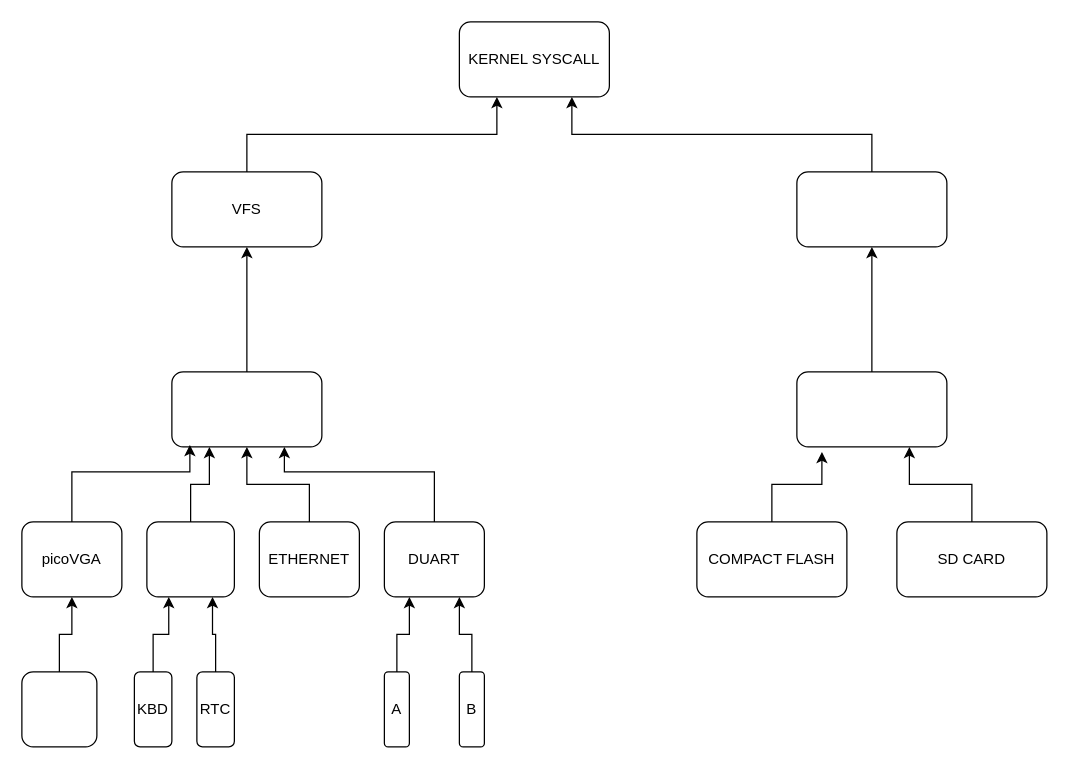
The diagram is 1069 pixels wide and 769 high, and some of its shapes have lost their labels. Each missing label, with the centre of its shape:
"DRIVERS" belongs at point (246, 409).
"FatFS" belongs at point (871, 409).
"FILE SYSTEM" belongs at point (871, 209).
"pico2w" belongs at point (190, 559).
"VIDEO" belongs at point (59, 709).
